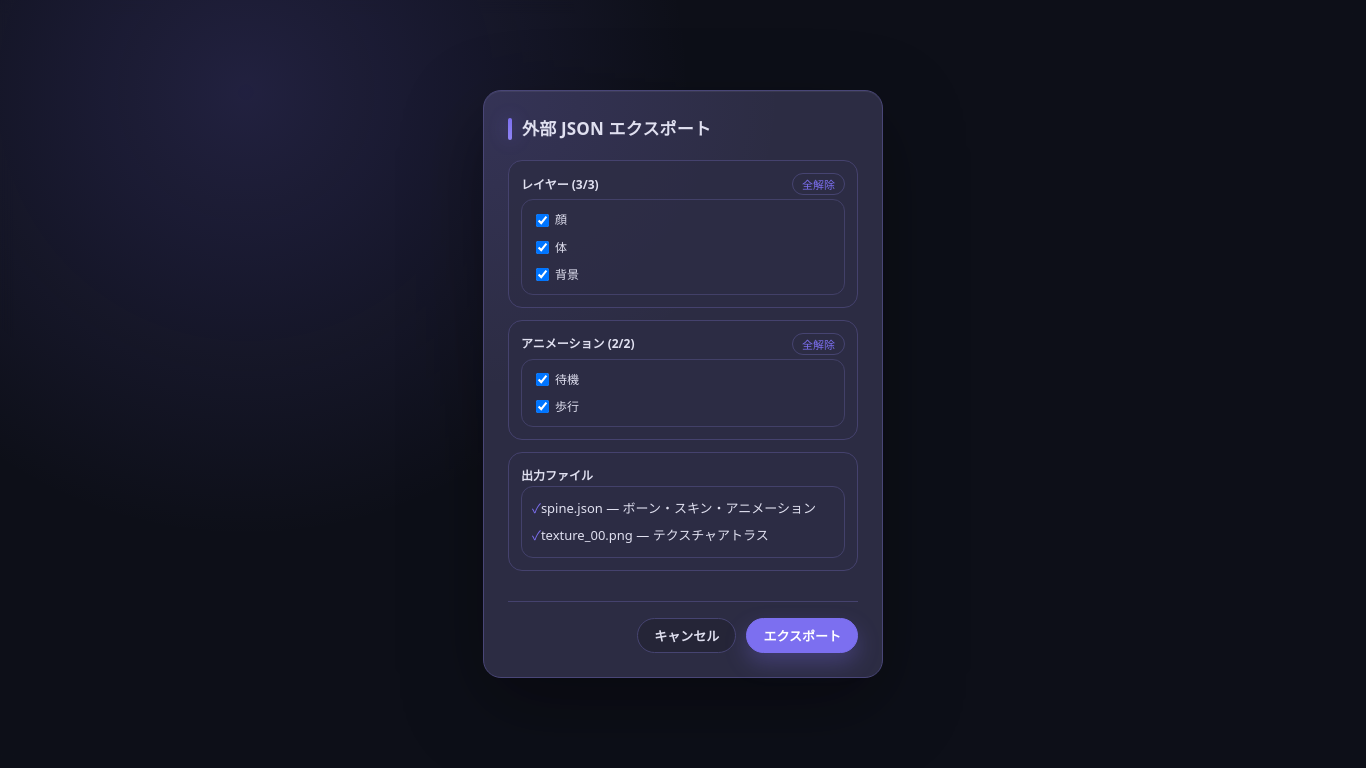
Test: ExportDialog — レイヤー選択 › 「全解除」で全レイヤーが解除される
Click the button "全解除" in the row of "レイヤー".
click(818, 184)  # box [792,173,845,195]
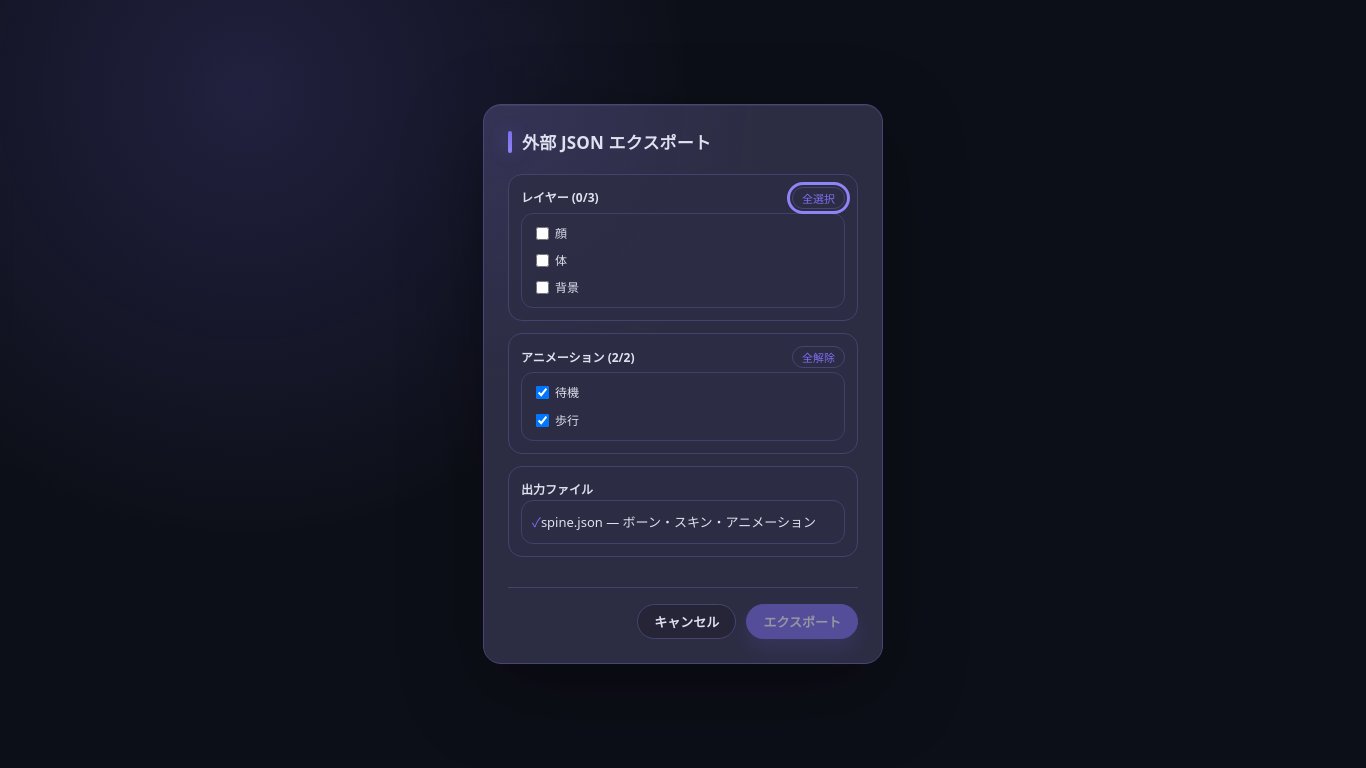
Expected: the text "レイヤー (0/3)" is shown, [521,188,599,207]
Expected: the checkbox labelled "顔" is not checked, [536,227,549,240]
Expected: the checkbox labelled "体" is not checked, [536,254,549,267]
